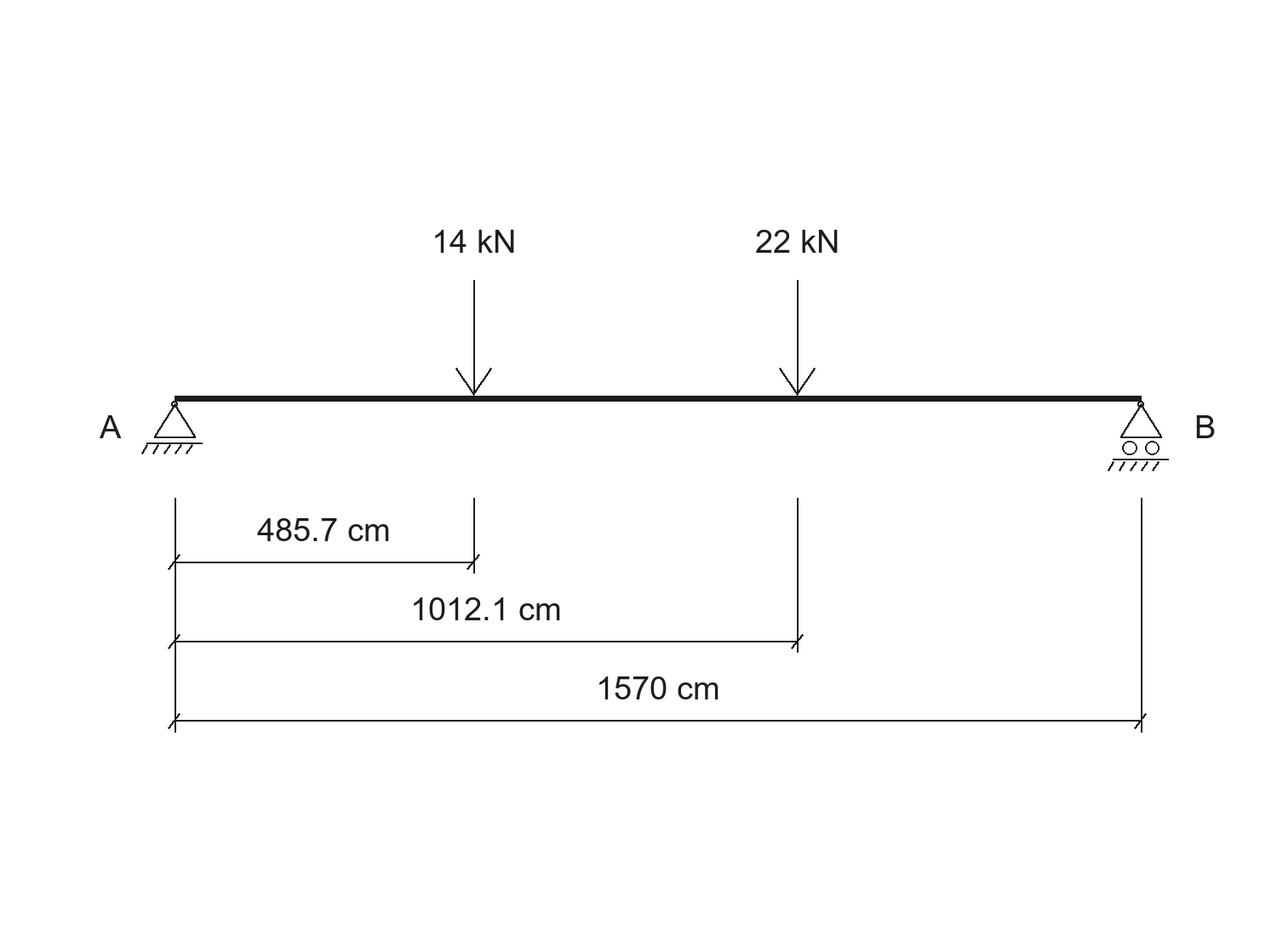pin_support: (141, 401, 203, 454)
point_load: (455, 280, 492, 396), (779, 280, 816, 396)
roller_support: (1108, 401, 1169, 471)
